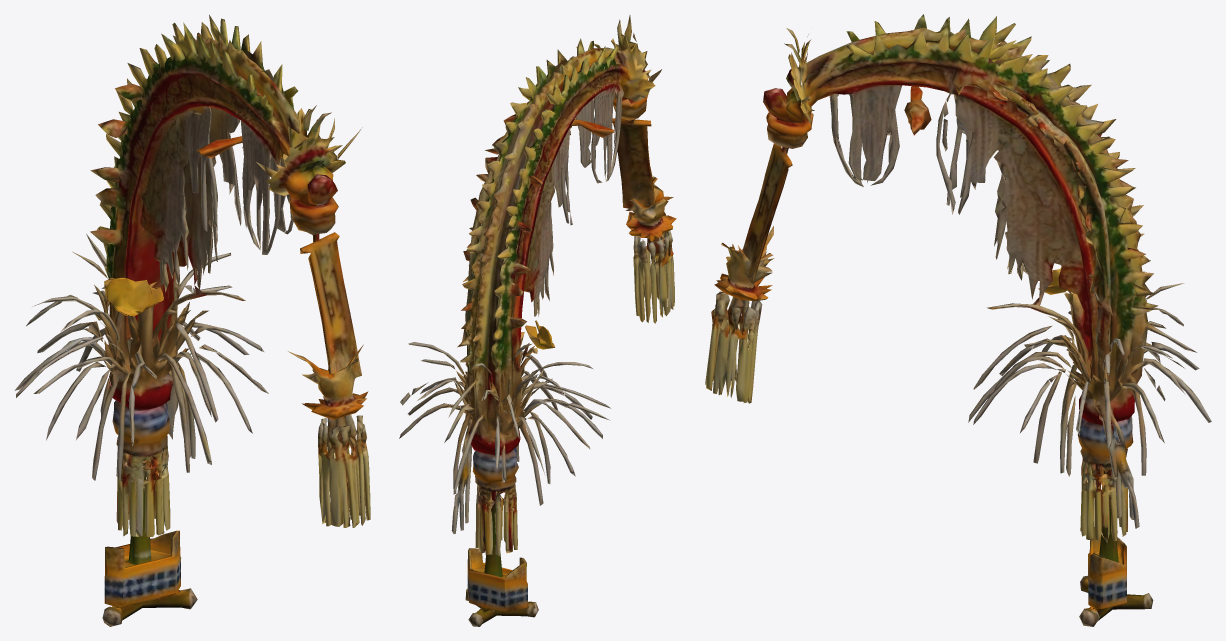
Rendered from penjor.glb.
The picture shows the model from 3 angles, left to right: view 1: azimuth 30°, elevation 25°; view 2: azimuth 150°, elevation 25°; view 3: azimuth 270°, elevation 25°; orthographic projection. The views are drawn at different scales.
Parts seen in each view (by area): view 1: tripo_node_db718991-60a8-4c03-aa9e-6b9868ecdb23; view 2: tripo_node_db718991-60a8-4c03-aa9e-6b9868ecdb23; view 3: tripo_node_db718991-60a8-4c03-aa9e-6b9868ecdb23.
Boxes of the visible parts, <box> form: tripo_node_db718991-60a8-4c03-aa9e-6b9868ecdb23: <box>14,14,370,626</box>; tripo_node_db718991-60a8-4c03-aa9e-6b9868ecdb23: <box>399,15,676,626</box>; tripo_node_db718991-60a8-4c03-aa9e-6b9868ecdb23: <box>705,14,1211,626</box>.
Size of the model in its own units: 0.3906 by 1 by 0.7823.
Materials: 1 (1 with a texture image).
